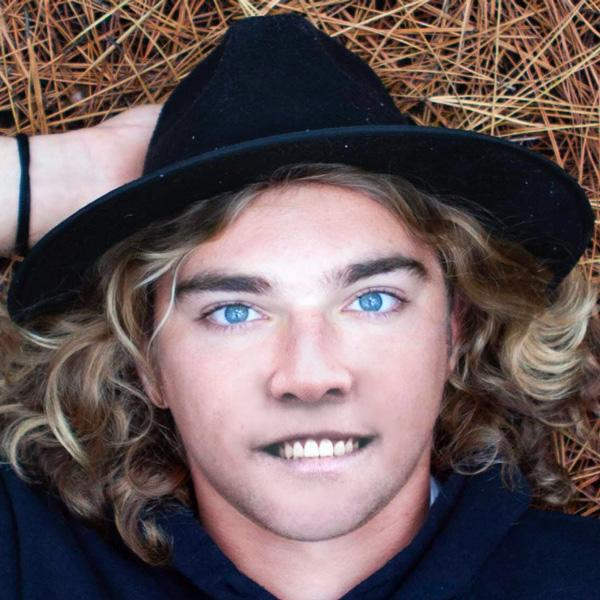Eyes: (186, 292, 276, 341), (332, 281, 412, 325)
